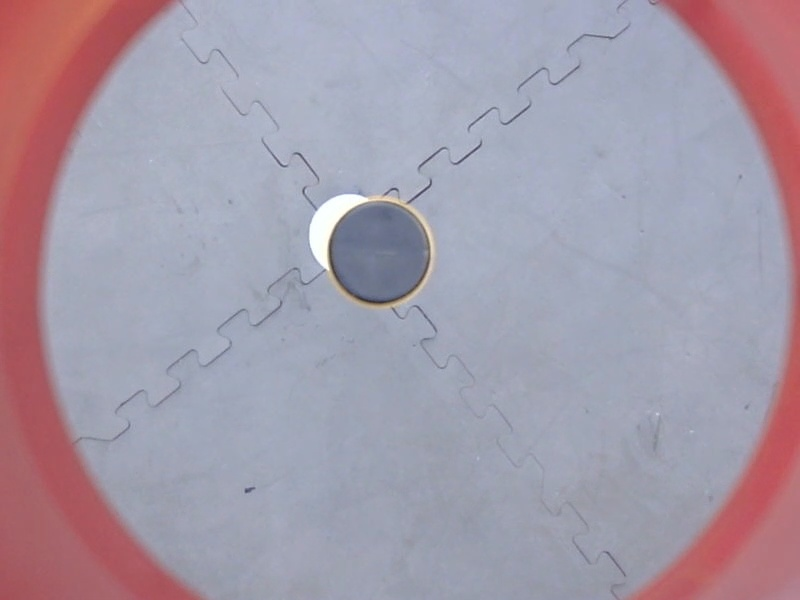tip: (320, 193, 438, 317)
